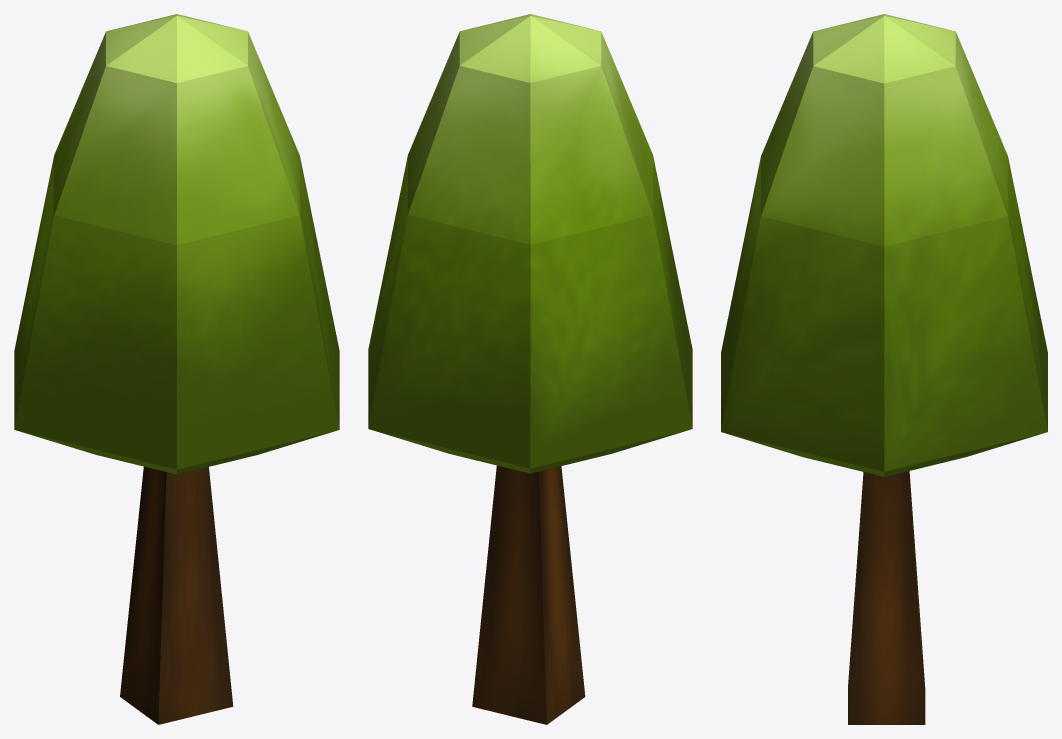
Rendered from tree_2.fbx.
The picture shows the model from 3 angles, left to right: view 1: azimuth 30°, elevation 25°; view 2: azimuth 150°, elevation 25°; view 3: azimuth 270°, elevation 25°; orthographic projection.
Parts seen in each view (by area): view 1: leaf_tree_5:Group2, tree_7:Group2; view 2: leaf_tree_5:Group2, tree_7:Group2; view 3: leaf_tree_5:Group2, tree_7:Group2.
Part boxes in pixels (bbox=[...]): leaf_tree_5:Group2: bbox=[14, 14, 339, 474]; tree_7:Group2: bbox=[120, 466, 233, 724]; leaf_tree_5:Group2: bbox=[368, 14, 692, 473]; tree_7:Group2: bbox=[472, 465, 585, 724]; leaf_tree_5:Group2: bbox=[721, 14, 1047, 476]; tree_7:Group2: bbox=[848, 471, 925, 724].
Bounding box in the file's own units: 7.29 × 14.71 × 6.31.
